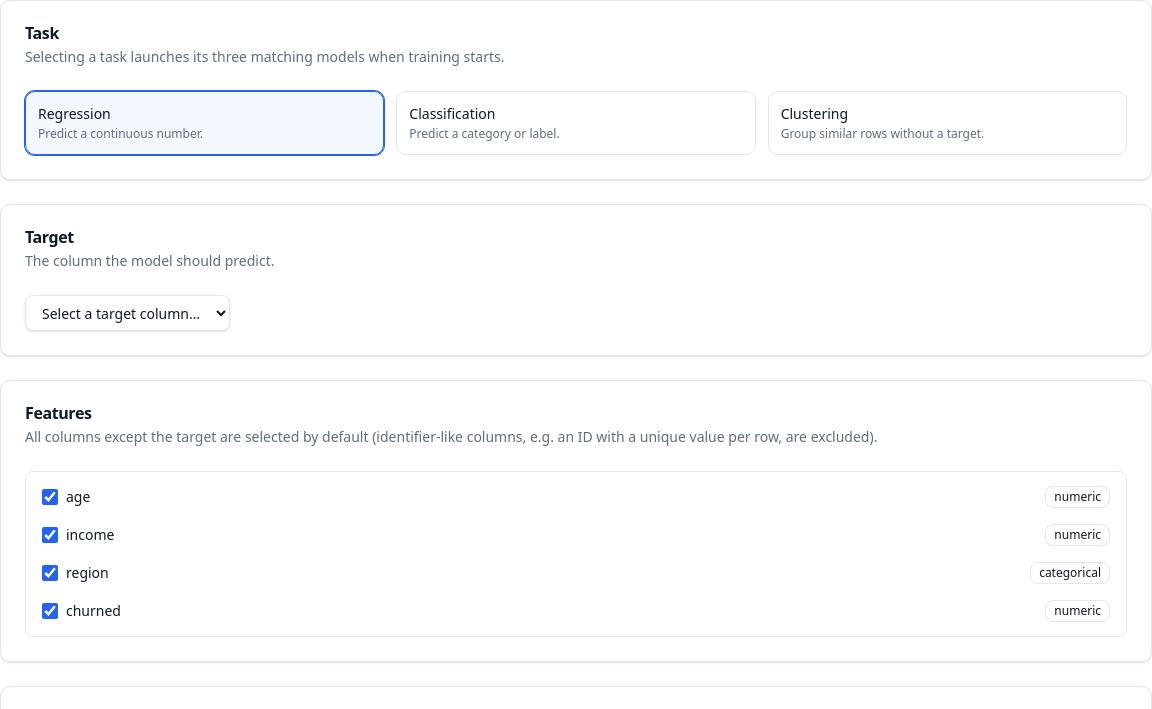
it: ConfigureStep › shows a friendly error message when the preview request fails
Select "churned" in the dropdown named "Target column": [128, 313] box [25,295,230,331]
(page scrolled)
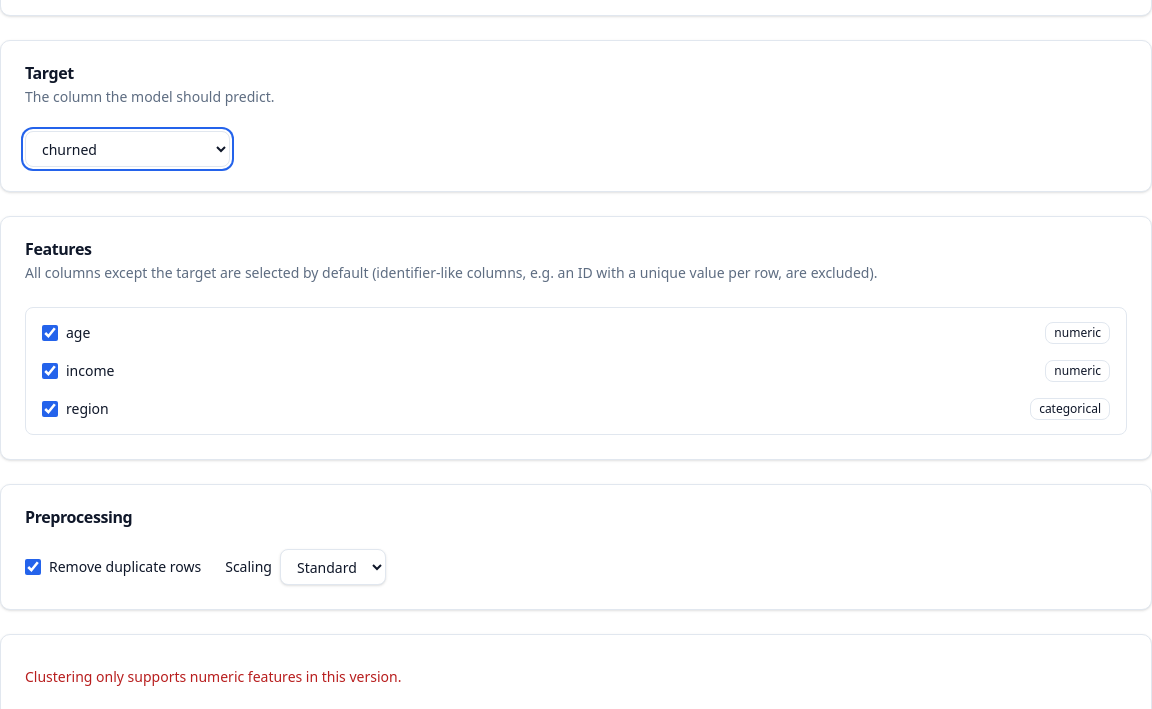
Check: the message reads "Clustering only supports numeric features in this version.", box [25,667,401,686]
